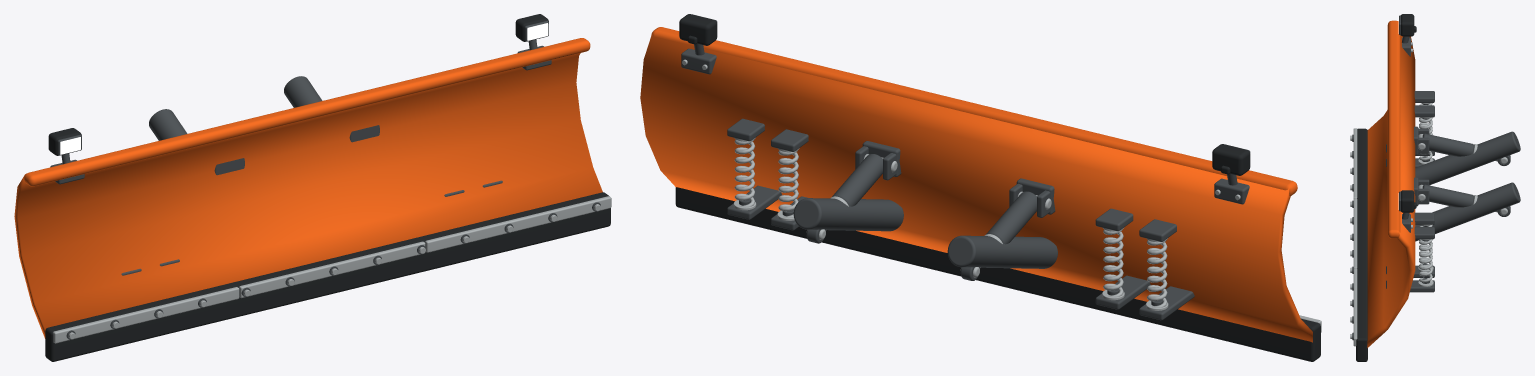
The model's file is tractor_snow_blade.glb.
3 views of the same model, side by side, from view 1: azimuth 30°, elevation 25°; view 2: azimuth 150°, elevation 25°; view 3: azimuth 270°, elevation 25° (orthographic). The views are drawn at different scales.
Parts seen in each view (by area): view 1: Orange mouldboard, Rubber cutting edge, Lip, Cutting edge clamp strip, Cutting edge clamp strip.002, Cutting edge clamp strip.001, Mounting arm.001, Mounting arm; view 2: Orange mouldboard, Rubber cutting edge, Lip, Mounting arm.001, Mounting arm, Hydraulic cylinder barrel.001, Hydraulic cylinder barrel, Trip spring.003, Trip spring.001, Trip spring, Work lamp housing, Work lamp housing.001 (+10 smaller); view 3: Orange mouldboard, Lip, Rubber cutting edge, Mounting arm, Mounting arm.001, Hydraulic cylinder barrel, Hydraulic cylinder barrel.001, Trip spring.003, Cutting edge clamp strip.002, Cutting edge clamp strip.001, Cutting edge clamp strip, Work lamp housing (+9 smaller).
Boxes of the visible parts, x1,y1,x2,y2 form: Orange mouldboard: (14, 53, 602, 338); Rubber cutting edge: (45, 192, 610, 361); Lip: (24, 38, 590, 186); Cutting edge clamp strip: (53, 287, 239, 343); Cutting edge clamp strip.002: (425, 196, 611, 252); Cutting edge clamp strip.001: (239, 241, 425, 297); Mounting arm.001: (284, 76, 322, 107); Mounting arm: (149, 109, 187, 140); Orange mouldboard: (640, 32, 1312, 342); Rubber cutting edge: (675, 187, 1320, 361); Lip: (651, 27, 1297, 195); Mounting arm.001: (793, 198, 903, 231); Mounting arm: (947, 235, 1057, 268); Hydraulic cylinder barrel.001: (832, 154, 882, 206); Hydraulic cylinder barrel: (986, 191, 1036, 244); Trip spring.003: (734, 139, 755, 207); Trip spring.001: (1103, 229, 1123, 297); Trip spring: (1147, 240, 1167, 307); Work lamp housing: (1212, 144, 1250, 175); Work lamp housing.001: (679, 14, 717, 45); Orange mouldboard: (1367, 35, 1415, 347); Lip: (1387, 20, 1400, 238); Rubber cutting edge: (1356, 128, 1367, 361); Mounting arm: (1415, 131, 1520, 185); Mounting arm.001: (1415, 182, 1520, 241); Hydraulic cylinder barrel: (1422, 133, 1474, 156); Hydraulic cylinder barrel.001: (1422, 184, 1474, 207); Trip spring.003: (1419, 239, 1432, 282); Cutting edge clamp strip.002: (1353, 268, 1357, 346); Cutting edge clamp strip.001: (1353, 198, 1357, 268); Cutting edge clamp strip: (1353, 128, 1357, 198); Work lamp housing: (1401, 14, 1414, 36).
Size of the model in its own units: 3.08 by 1.02 by 1.05.
